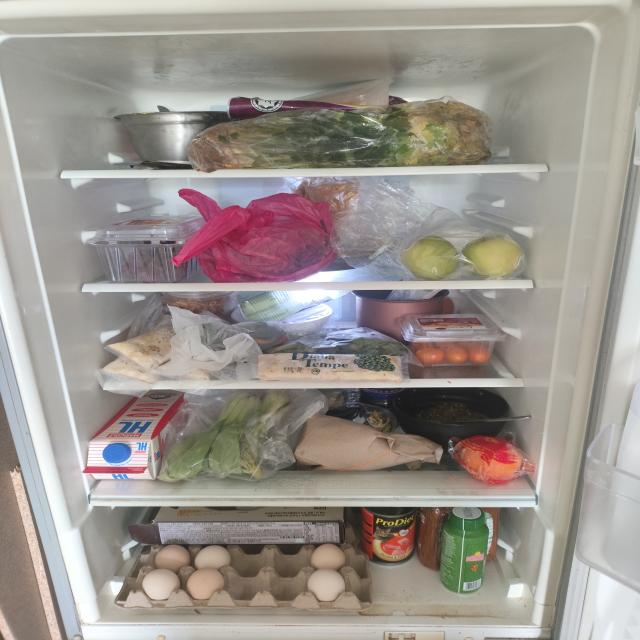apple: (400, 236, 460, 280), (462, 235, 523, 278)
egg: (114, 544, 373, 610)
leafy_greens: (188, 98, 492, 172)
orange: (458, 436, 522, 480)
pakchoy: (158, 392, 292, 483)
tempeh: (103, 314, 212, 384), (256, 353, 404, 383)
